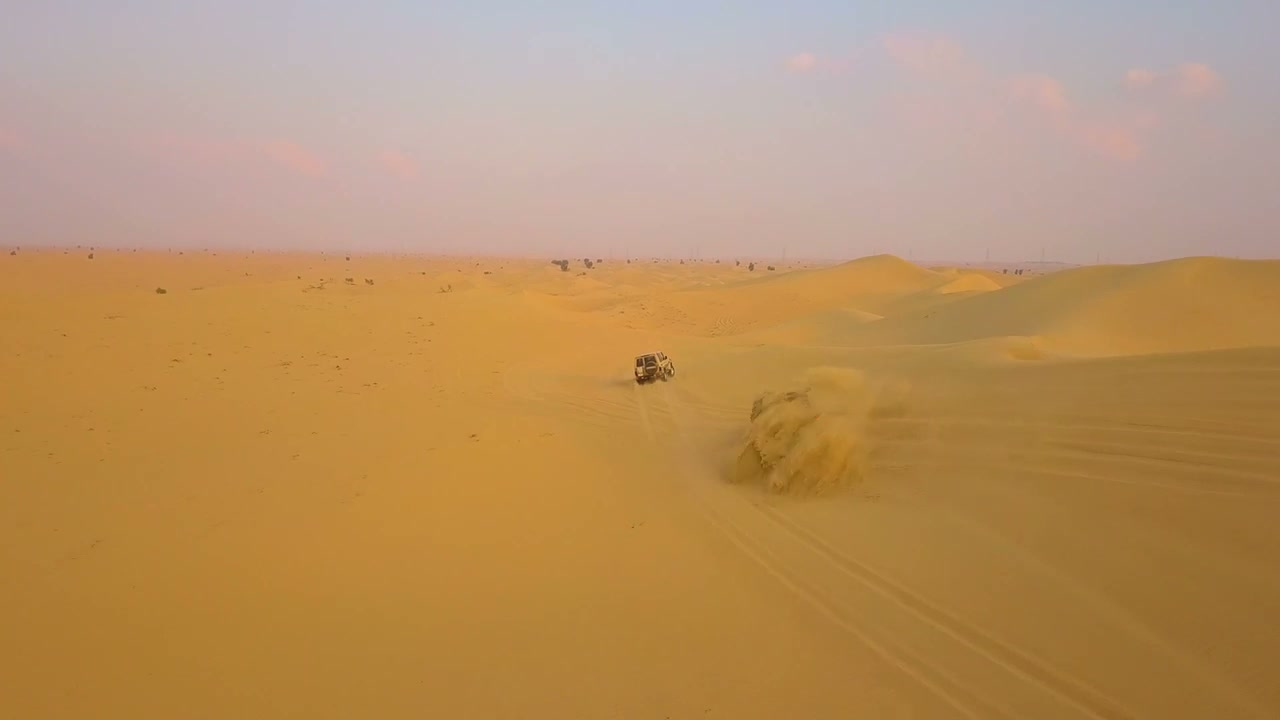vehicle_track: (898, 414, 1279, 717), (683, 477, 1135, 719), (720, 493, 1136, 719), (722, 492, 1137, 717), (752, 504, 1132, 717), (683, 483, 1015, 719), (694, 493, 1017, 719), (934, 504, 1273, 718), (909, 445, 1279, 595), (882, 417, 1279, 501), (882, 408, 1279, 484), (911, 452, 1279, 502), (927, 413, 1279, 452), (1041, 440, 1279, 485), (503, 368, 635, 428), (555, 394, 633, 427), (633, 385, 654, 440)
